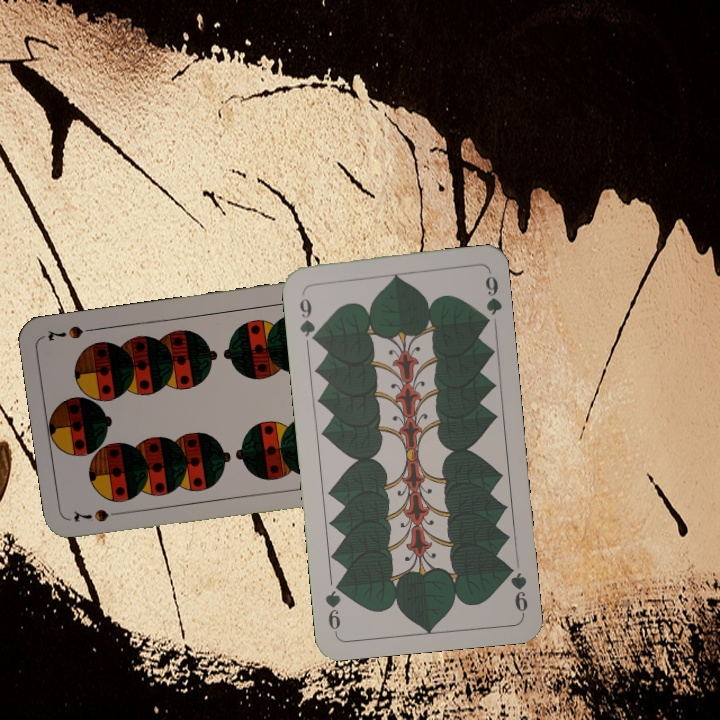G9: (501, 559, 531, 617), (296, 287, 321, 345)
S7: (69, 504, 128, 525)
